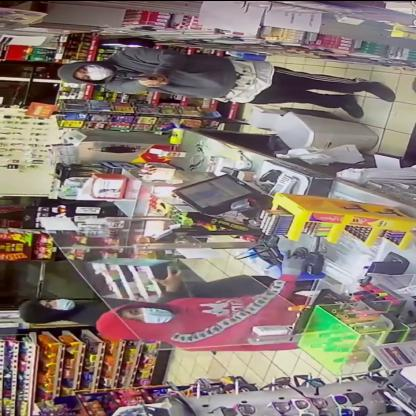Pistol: (128, 70, 168, 86)
